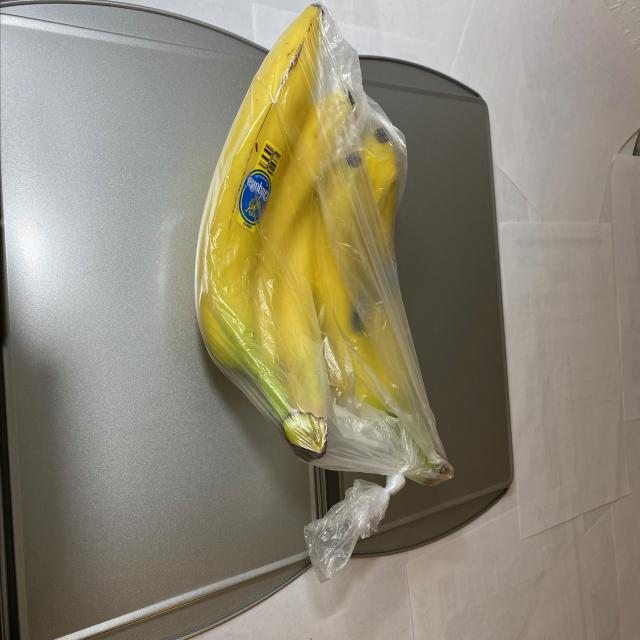banana: (191, 2, 453, 508)
